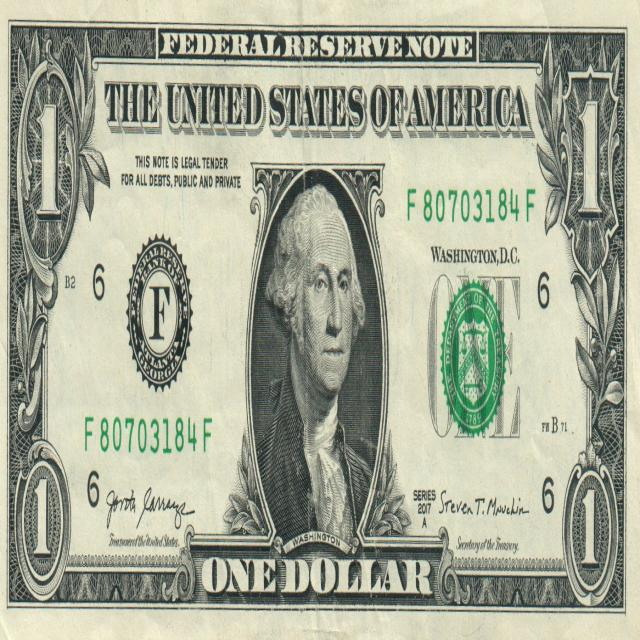SerialNumber: (85, 416, 212, 454), (423, 189, 520, 223)
